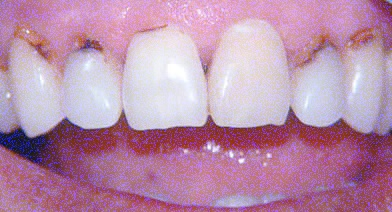karies: (15, 22, 58, 65), (294, 31, 339, 64), (343, 26, 382, 53), (67, 30, 107, 55), (134, 18, 172, 38)
